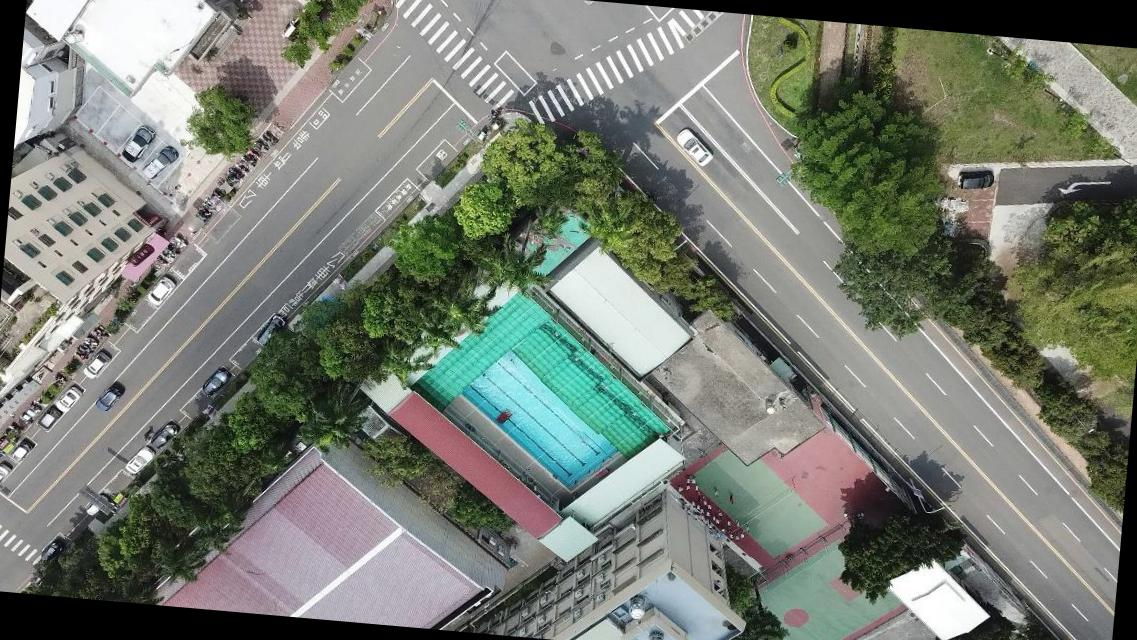vehicle: (674, 127, 715, 168), (142, 144, 178, 184), (121, 124, 154, 164), (256, 312, 286, 348), (200, 366, 232, 398), (94, 381, 124, 414), (146, 274, 175, 308), (124, 446, 155, 476), (957, 168, 995, 192), (148, 422, 180, 449), (55, 384, 83, 414), (82, 351, 110, 381), (39, 538, 65, 564), (36, 406, 60, 432), (85, 494, 111, 518), (10, 439, 32, 464), (0, 462, 11, 491)
